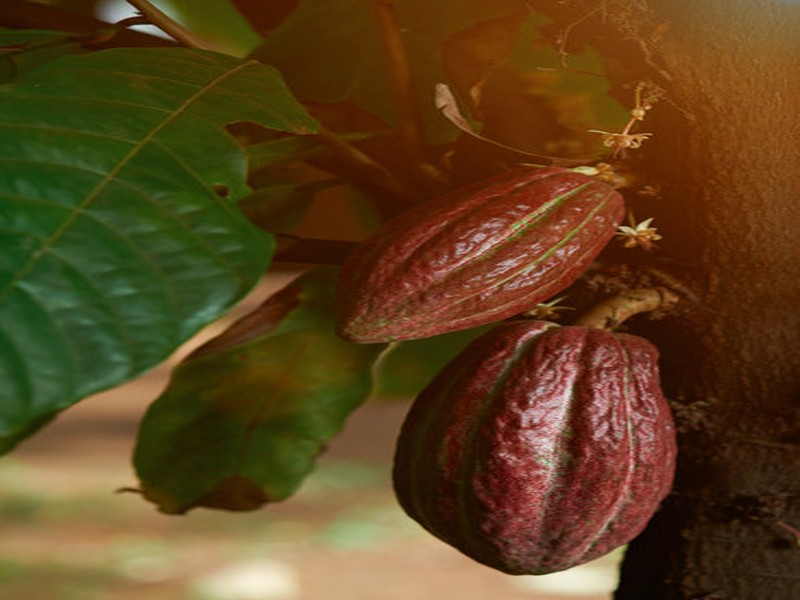Cacaopod: (391, 320, 679, 579), (333, 164, 625, 345)
